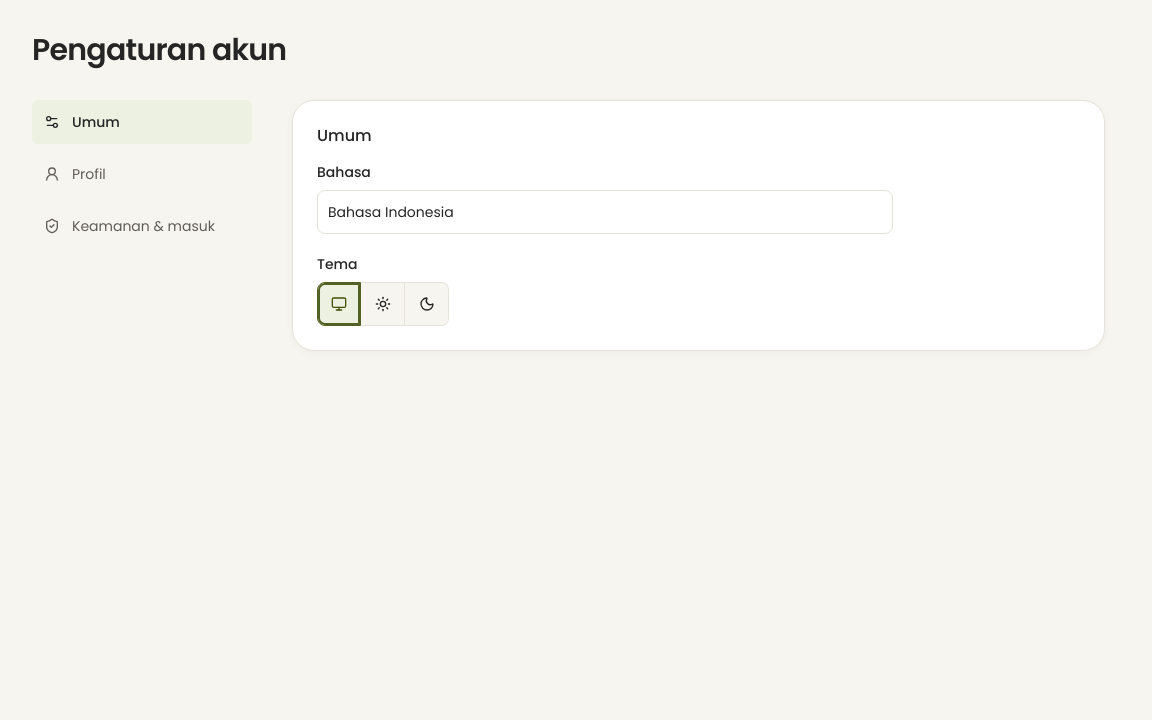
Test case: SettingsView › menyediakan bagian keamanan dalam Bahasa Indonesia
Click the button "Keamanan & masuk" at coordinates (142, 226), box top-left (32, 204), bottom-right (252, 248)
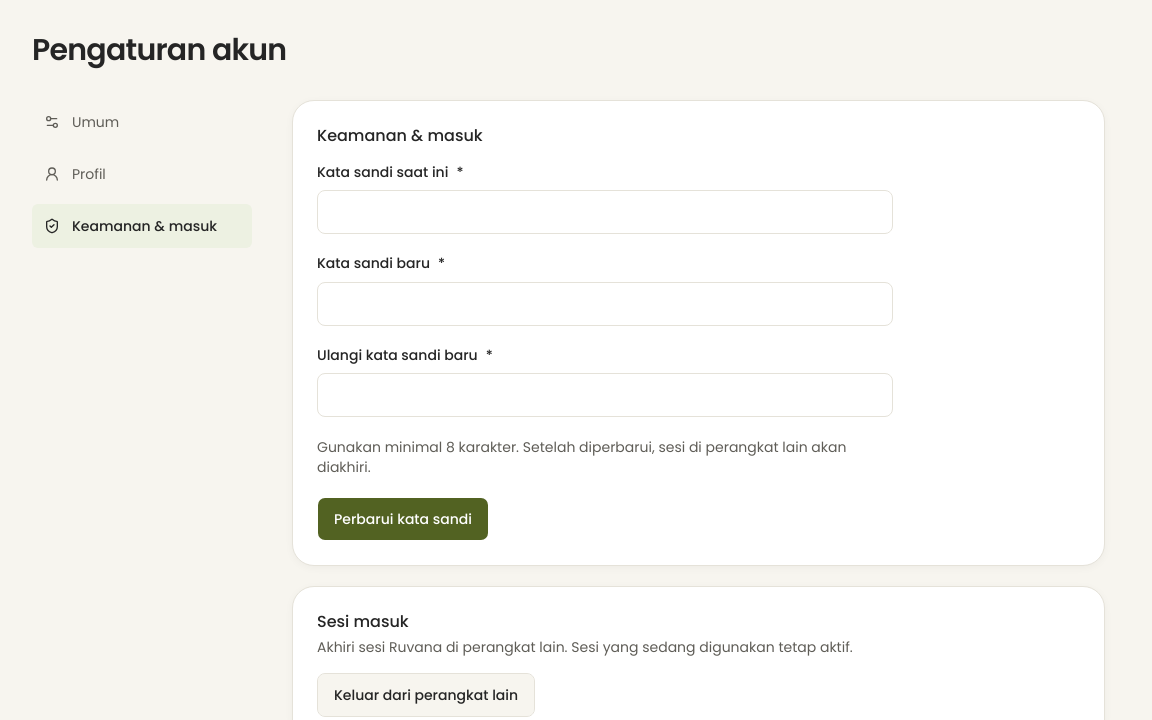
Expected: the password field labelled "Kata sandi saat ini *" is shown, top-left (317, 190), bottom-right (893, 234)
Expected: the button "Keluar dari perangkat lain" is shown, top-left (317, 673), bottom-right (535, 717)
